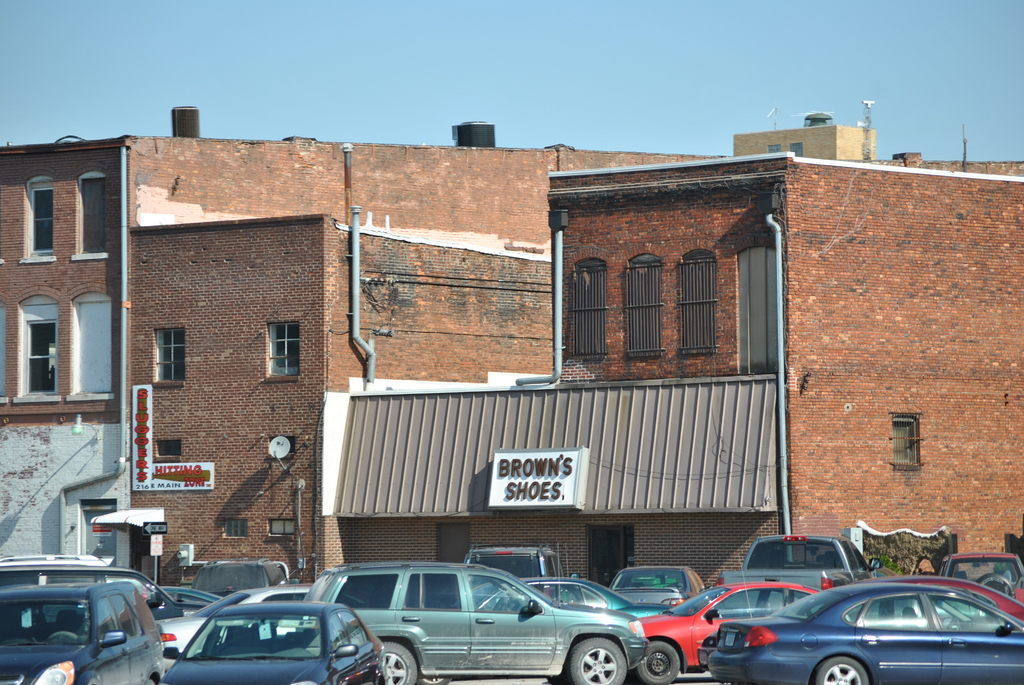Car: (0, 534, 1023, 684)
